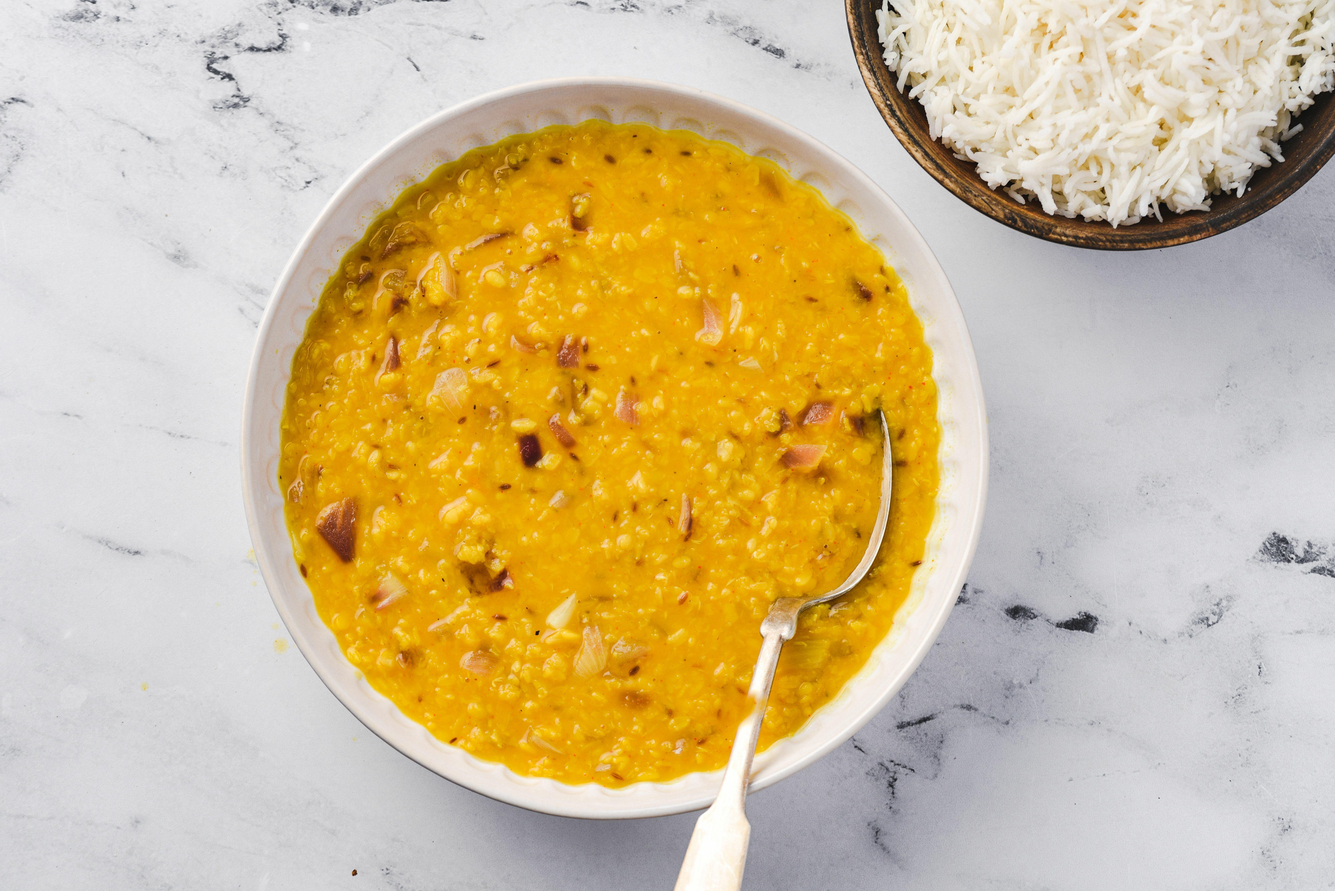Dal: (278, 120, 936, 780)
WhiteRice: (878, 0, 1335, 231)
